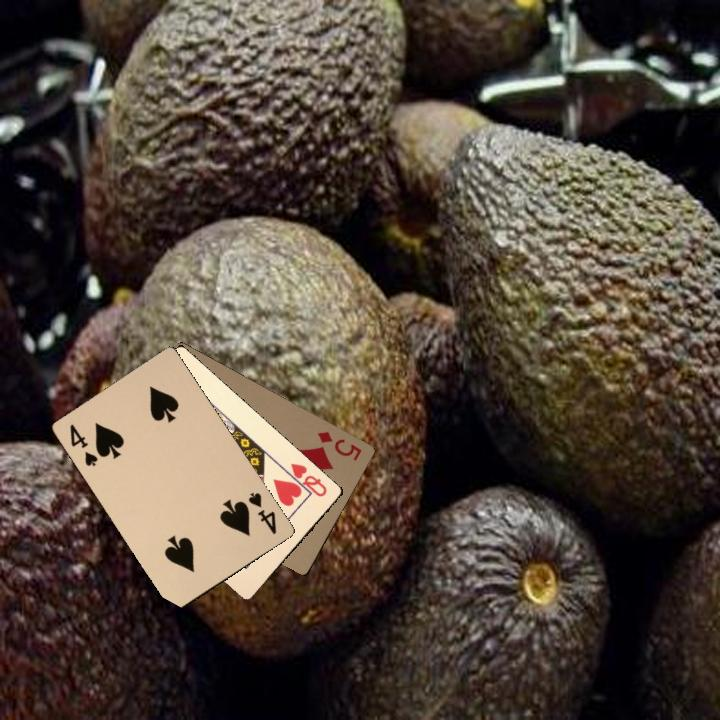4s: (244, 488, 279, 537), (65, 420, 100, 469)
5d: (313, 427, 364, 463)
Qh: (281, 459, 330, 499)
